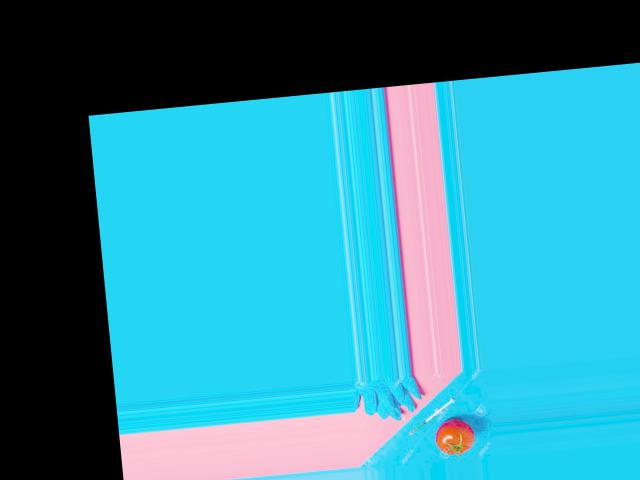tomato: (433, 416, 475, 455)
